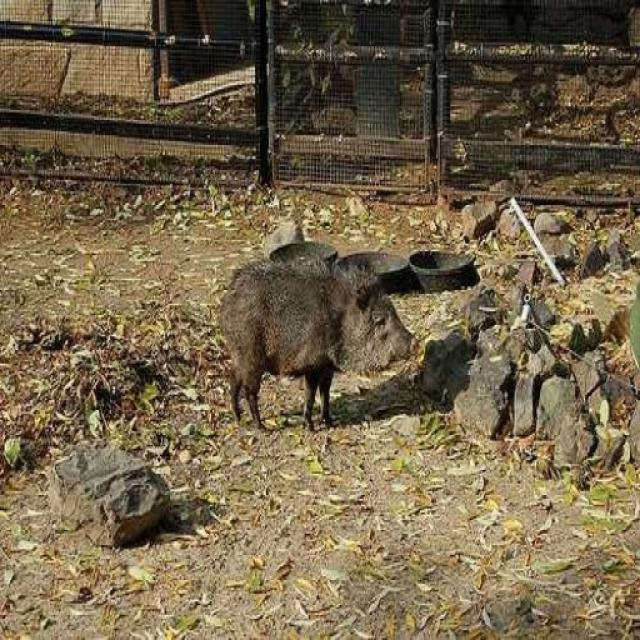pig: (180, 218, 429, 450)
